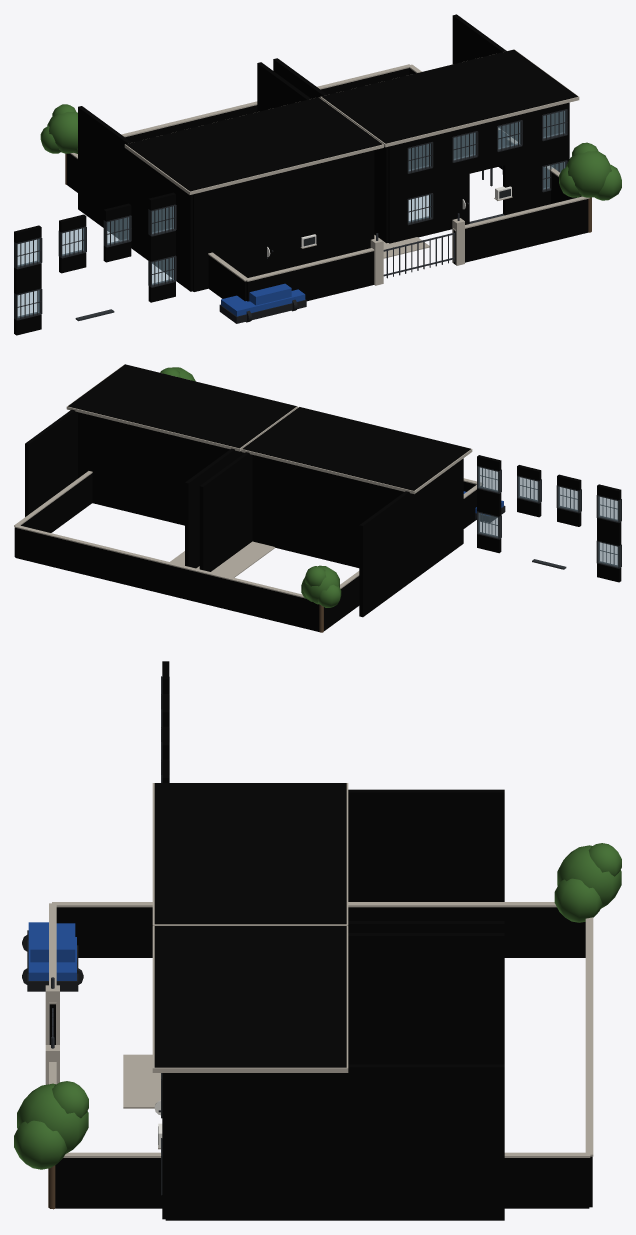
Rendered from low_bedsit.glb.
3 renders of one model, top to bottom at view 1: azimuth 30°, elevation 25°; view 2: azimuth 150°, elevation 25°; view 3: azimuth 270°, elevation 25°, orthographic. The views are drawn at different scales.
Visible parts, largest first — view 1: object 261, object 115, bLeft (×4), object 50, object 5, object 291, bRight (×2), object 290, object 144, object 143, object 287, object 325 (+32 smaller); view 2: bBack (×4), bLeft (×4), object 115, object 261, object 287, bRight (×4), object 289, object 288, object 292, slab, object 116, object 262 (+9 smaller); view 3: bRight (×3), bLeft (×4), object 261, object 115, object 288, object 289, object 325, object 292, object 326, slab, object 330, object 293 (+7 smaller).
Part boxes in pixels (<box>): object 261: <box>321,49,577,143</box>; object 115: <box>126,97,382,191</box>; bLeft (×4): <box>78,58,388,291</box>; object 50: <box>193,150,373,240</box>; object 5: <box>193,197,373,291</box>; object 291: <box>453,199,588,264</box>; bRight (×2): <box>257,14,569,195</box>; object 290: <box>246,251,373,301</box>; object 144: <box>503,156,541,215</box>; object 143: <box>432,174,469,233</box>; object 287: <box>125,68,409,142</box>; object 325: <box>566,151,611,197</box>; bBack (×4): <box>78,412,403,567</box>; bLeft (×4): <box>185,448,463,617</box>; object 115: <box>242,407,470,490</box>; object 261: <box>68,364,296,448</box>; object 287: <box>15,528,319,631</box>; bRight (×4): <box>25,409,252,571</box>; object 289: <box>14,473,92,556</box>; object 288: <box>324,486,481,630</box>; object 292: <box>14,525,305,598</box>; slab: <box>170,541,275,577</box>; object 116: <box>241,449,414,493</box>; object 262: <box>67,406,239,451</box>; bRight (×3): <box>165,921,504,1220</box>; bLeft (×4): <box>348,789,504,1064</box>; object 261: <box>154,926,346,1067</box>; object 115: <box>154,783,346,924</box>; object 288: <box>56,907,585,957</box>; object 289: <box>55,1158,589,1208</box>; object 325: <box>17,1083,88,1153</box>; object 292: <box>585,917,593,1156</box>; object 326: <box>14,1120,67,1169</box>; slab: <box>123,1054,160,1108</box>; object 330: <box>557,845,621,908</box>; object 293: <box>52,902,556,907</box>.
Size of what is drawn, in the model's own units: 34.59 by 6.18 by 21.53.
